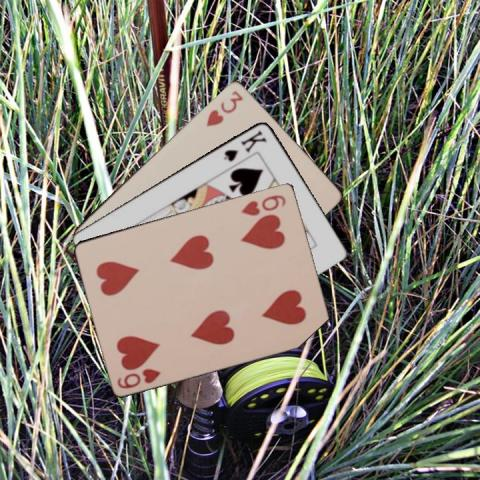3h: (203, 87, 244, 128)
6h: (238, 191, 287, 217), (114, 365, 162, 390)
Ks: (221, 126, 268, 162)
